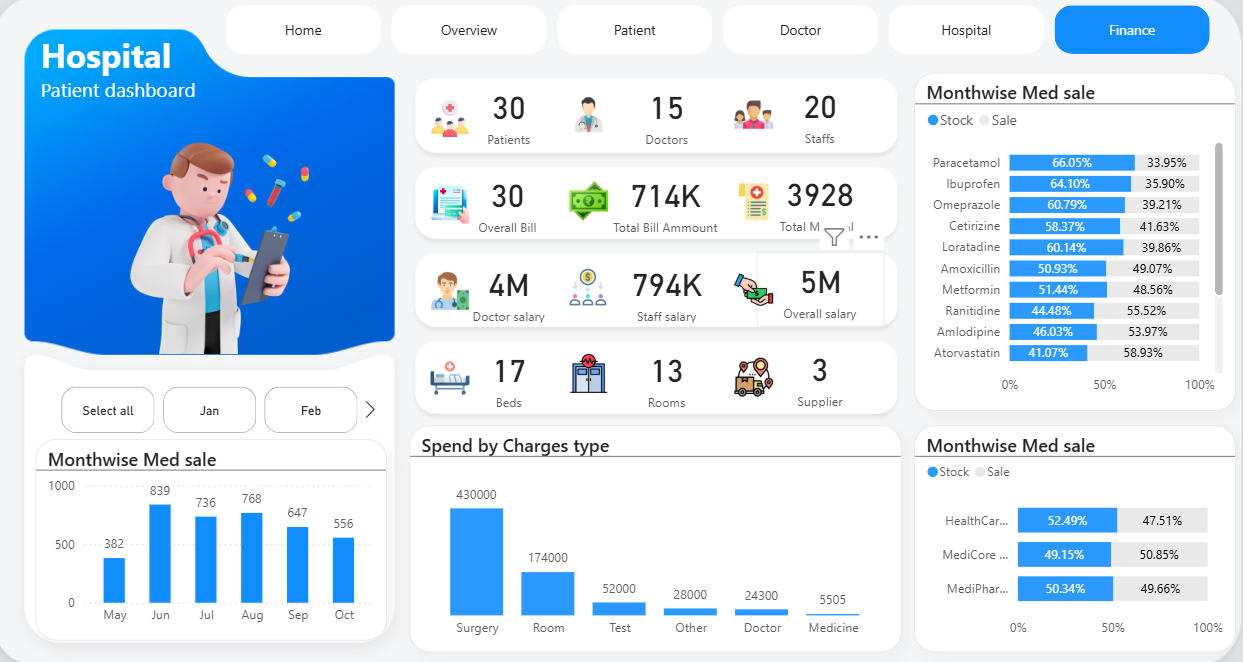

Layout of this report page (visuals, bound fields, positions):
{"tool":"powerbi","page":{"name":"Finance","canvas":[1280,720],"ordinal":5},"visuals":[{"type":"textbox","box":[79.5,66.8,361.1,84.3],"z":0},{"type":"image","box":[79.5,160.7,361.1,225.9],"z":1000},{"type":"advancedSlicerVisual","fields":{"Values":["Calender.Month"]},"box":[79.5,407.2,338.8,55.7],"z":2000},{"type":"clusteredColumnChart","title":"Monthwise Med sale","fields":{"Y":["_Measures.Total_Med_Sale"],"Category":["Calender.Month"]},"box":[79.5,462.9,338.8,194.1],"z":3000},{"type":"columnChart","title":"Spend by Charges type","fields":{"Category":["Hospital Bills.Attribute"],"Y":["Sum(Hospital Bills.Value)"]},"box":[440.6,450.1,475.6,219.5],"z":4000},{"type":"hundredPercentStackedBarChart","title":"Monthwise Med sale","fields":{"Y":["_Measures.Total Stock med","_Measures.Total_Med_Sale"],"Category":["Medical Stock.name"]},"box":[927.3,109.8,310.2,326.1],"z":5000},{"type":"hundredPercentStackedBarChart","title":"Monthwise Med sale","fields":{"Y":["_Measures.Total Stock med","_Measures.Total_Med_Sale"],"Category":["Medical Stock.Supplier.name"]},"box":[927.3,450.1,310.2,219.5],"z":6000},{"type":"card","fields":{"Values":["_Measures.Patient_Count"]},"box":[475.2,114.5,122.5,71.6],"z":7000},{"type":"card","fields":{"Values":["Count(patient.Doctor.name)"]},"box":[628.4,114.5,120.9,71.6],"z":8000},{"type":"card","fields":{"Values":["Count(Staff.name)"]},"box":[775.8,112.9,122.5,71.6],"z":9000},{"type":"card","fields":{"Values":["Count(Hospital Bills.bill_id)"]},"box":[474.7,199.1,122.5,71.6],"z":10000},{"type":"card","fields":{"Values":["_Measures.Total_bill_Ammount"]},"box":[627.9,199.1,120.9,71.6],"z":11000},{"type":"card","fields":{"Values":["_Measures.Total_Med_Sale"]},"box":[775.3,197.5,122.5,71.6],"z":12000},{"type":"card","fields":{"Values":["Sum(patient.Doctor.salary)"]},"box":[475.6,284.2,122.5,71.6],"z":13000},{"type":"card","fields":{"Values":["Sum(Staff.salary)"]},"box":[628.8,284.2,120.9,71.6],"z":14000},{"type":"card","fields":{"Values":["_Measures.Overall salary"]},"box":[776.2,282.6,122.5,71.6],"z":15000},{"type":"card","fields":{"Values":["CountNonNull(Beds status.Count_Beds)"]},"box":[475.6,368.3,122.5,71.6],"z":16000},{"type":"card","fields":{"Values":["Count(Beds status.room_id)"]},"box":[628.8,368.3,120.9,71.6],"z":17000},{"type":"card","fields":{"Values":["Count(Medical Stock.Supplier.name)"]},"box":[776.2,366.7,122.5,71.6],"z":18000},{"type":"pageNavigator","box":[262.5,44.5,956,47.7],"z":19000},{"type":"image","box":[456.5,122.5,47.7,62],"z":20000},{"type":"image","box":[590.1,119.3,47.7,62],"z":21000},{"type":"image","box":[456.5,372.2,47.7,63.6],"z":22000},{"type":"image","box":[749.2,372.2,47.7,62],"z":23000},{"type":"image","box":[590.1,369,47.7,62],"z":24000},{"type":"image","box":[749.2,287.9,47.7,62],"z":25000},{"type":"image","box":[749.2,203.6,47.7,62],"z":26000},{"type":"image","box":[456.5,289,47.7,62],"z":27000},{"type":"image","box":[456.5,205.7,47.7,62],"z":28000},{"type":"image","box":[590.1,202.5,47.7,62],"z":29000},{"type":"image","box":[749.2,119.3,47.7,62],"z":30000},{"type":"image","box":[590.1,285.8,46.1,62],"z":31000}]}

Visuals, with their boxes on the page's 1280x720 design canvas (x1, y1, x2, y2). These are canvas units, not pixel positions in the 1243x662 screenshot, which may show the page scaled, cropped or inside an application window:
textbox: 80 67 441 151
image: 80 161 441 387
advancedSlicerVisual - Calender.Month: 80 407 418 463
"Monthwise Med sale" clusteredColumnChart: 80 463 418 657
"Spend by Charges type" columnChart: 441 450 916 670
"Monthwise Med sale" hundredPercentStackedBarChart: 927 110 1238 436
"Monthwise Med sale" hundredPercentStackedBarChart: 927 450 1238 670
card - _Measures.Patient_Count: 475 114 598 186
card - Count(patient.Doctor.name): 628 114 749 186
card - Count(Staff.name): 776 113 898 184
card - Count(Hospital Bills.bill_id): 475 199 597 271
card - _Measures.Total_bill_Ammount: 628 199 749 271
card - _Measures.Total_Med_Sale: 775 198 898 269
card - Sum(patient.Doctor.salary): 476 284 598 356
card - Sum(Staff.salary): 629 284 750 356
card - _Measures.Overall salary: 776 283 899 354
card - CountNonNull(Beds status.Count_Beds): 476 368 598 440
card - Count(Beds status.room_id): 629 368 750 440
card - Count(Medical Stock.Supplier.name): 776 367 899 438
pageNavigator: 262 44 1218 92
image: 456 122 504 184
image: 590 119 638 181
image: 456 372 504 436
image: 749 372 797 434
image: 590 369 638 431
image: 749 288 797 350
image: 749 204 797 266
image: 456 289 504 351
image: 456 206 504 268
image: 590 202 638 264
image: 749 119 797 181
image: 590 286 636 348
